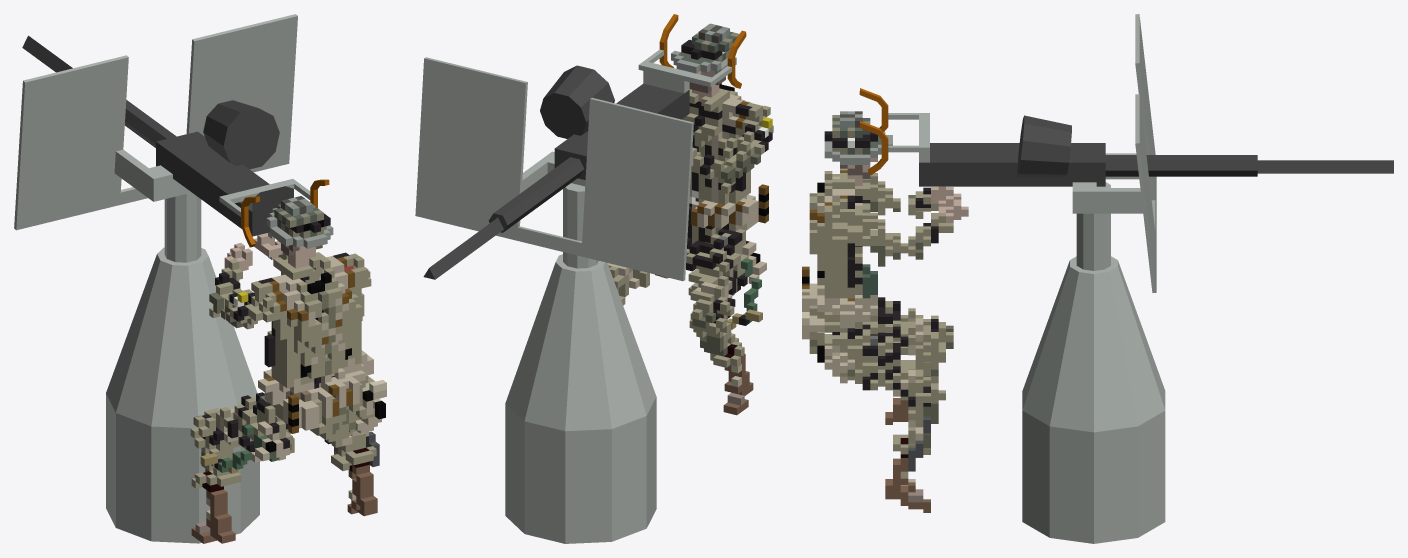
Rendered from oerlikon.glb.
3 views of the same model, side by side, from view 1: azimuth 30°, elevation 25°; view 2: azimuth 150°, elevation 25°; view 3: azimuth 270°, elevation 25° (orthographic). The views are drawn at different scales.
Parts seen in each view (by area): view 1: 02_turret_oerlikon_turret.mesh, crew_soldier_SLOT_00_GUNNER, 00_chassis_oerlikon_base.mesh; view 2: 02_turret_oerlikon_turret.mesh, 00_chassis_oerlikon_base.mesh, crew_soldier_SLOT_00_GUNNER; view 3: 00_chassis_oerlikon_base.mesh, crew_soldier_SLOT_00_GUNNER, 02_turret_oerlikon_turret.mesh.
Part boxes in pixels (<box>): 02_turret_oerlikon_turret.mesh: <box>14,14,329,247</box>; crew_soldier_SLOT_00_GUNNER: <box>190,196,386,543</box>; 00_chassis_oerlikon_base.mesh: <box>106,192,259,543</box>; 02_turret_oerlikon_turret.mesh: <box>415,14,746,281</box>; 00_chassis_oerlikon_base.mesh: <box>505,183,656,543</box>; crew_soldier_SLOT_00_GUNNER: <box>607,23,773,415</box>; 00_chassis_oerlikon_base.mesh: <box>1022,182,1165,543</box>; crew_soldier_SLOT_00_GUNNER: <box>802,111,968,512</box>; 02_turret_oerlikon_turret.mesh: <box>859,14,1393,292</box>.
Bounding box in the file's own units: 1.26 × 1.97 × 2.44.
Materials: 37 (1 with a texture image).
